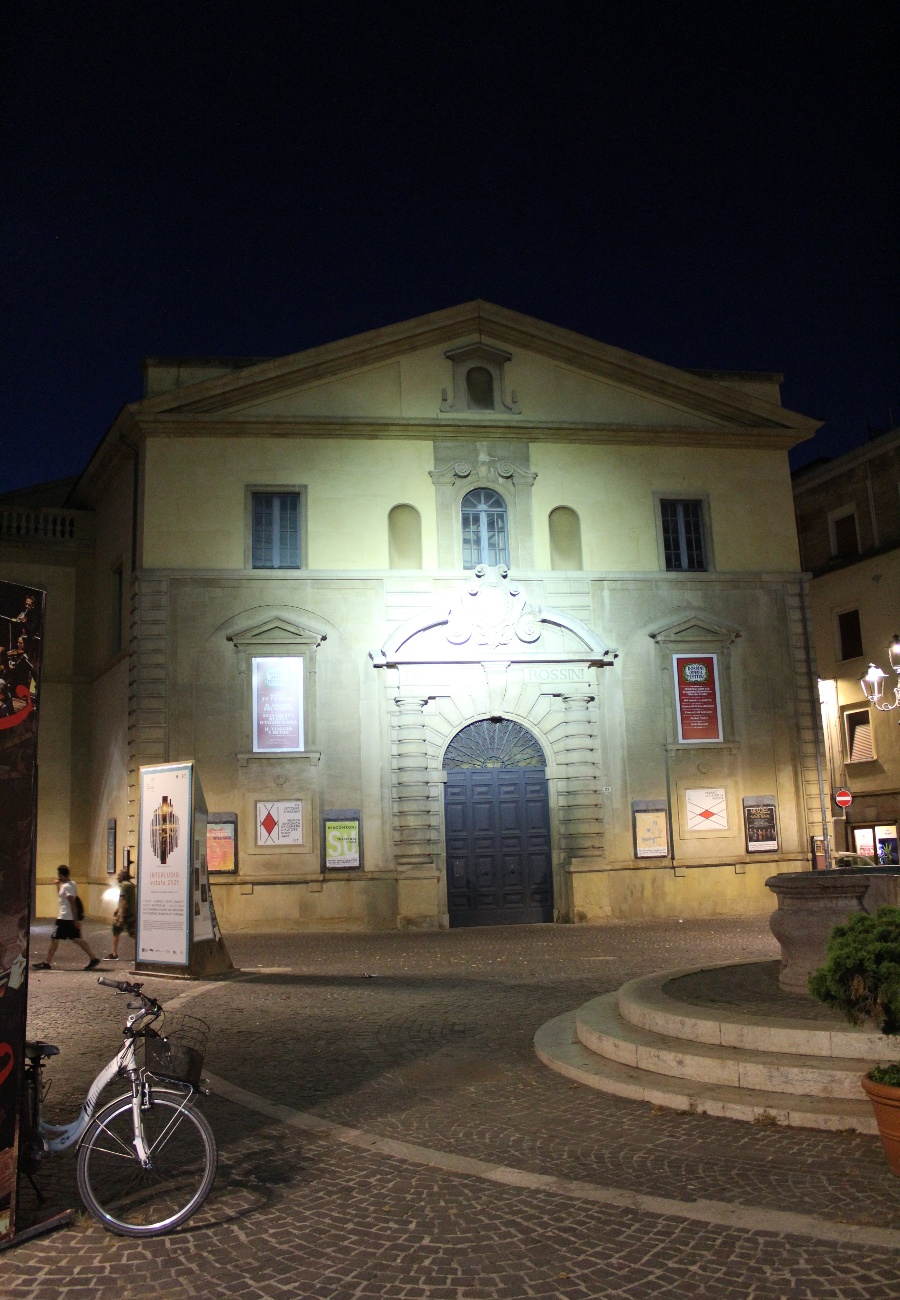Teatro Rossini: (126, 285, 828, 959)
